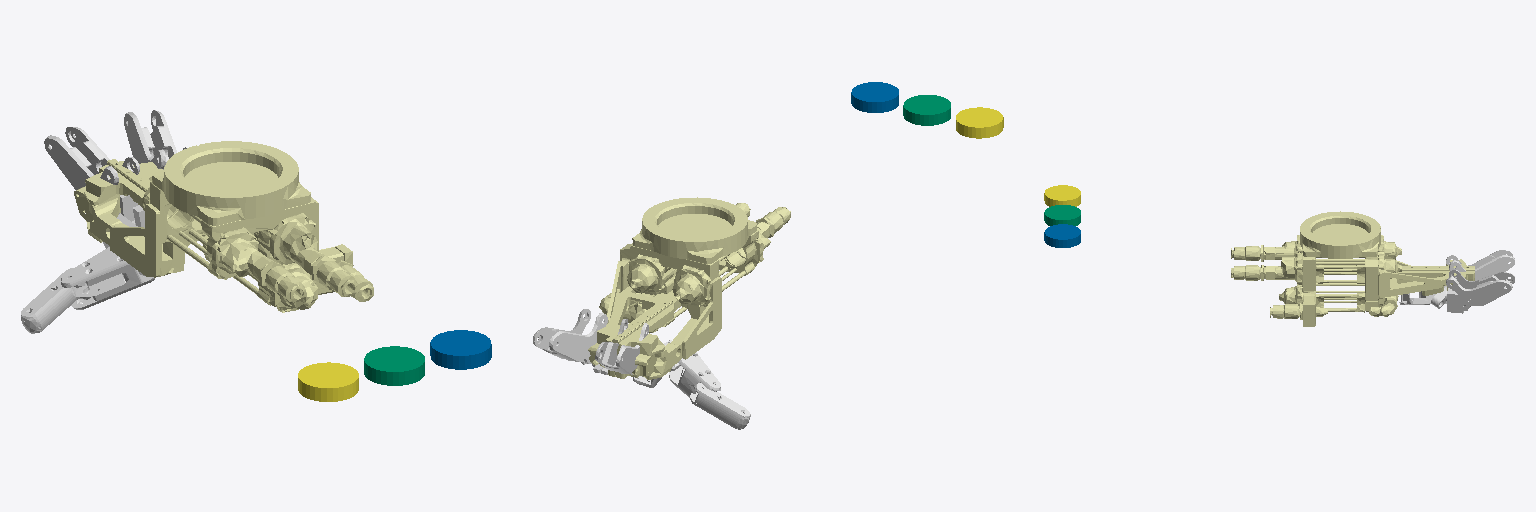
The robot description file, URDF, robot "avatar_gripper_3f_model":
<?xml version="1.0" ?>
<!-- =================================================================================== -->
<!-- |    This document was autogenerated by xacro from avatar_gripper_3f.xacro        | -->
<!-- |    EDITING THIS FILE BY HAND IS NOT RECOMMENDED                                 | -->
<!-- =================================================================================== -->
<robot name="avatar_gripper_3f_model">
  <link name="right_thumb_base">
    <inertial>
      <mass value="0.5"/>
      <inertia ixx="0.0" ixy="0.0" ixz="0.0" iyy="4E-5" iyz="0.0" izz="4E-5"/>
    </inertial>
    <visual>
      <origin rpy="0 0 0" xyz="0 0 0"/>
      <geometry>
        <mesh filename="package://avatar_description/meshes/thumb_base_extra.obj"/>
      </geometry>
      <material name="">
        <color rgba="0.9 0.9 0.9 1"/>
      </material>
    </visual>
    <collision>
      <origin rpy="0 0 0" xyz="0 0 0"/>
      <geometry>
        <mesh filename="package://avatar_description/meshes/thumb_base_extra.obj"/>
      </geometry>
    </collision>
  </link>
  <link name="right_thumb_knuckle">
    <inertial>
      <mass value="0.5"/>
      <inertia ixx="0.0" ixy="0.0" ixz="0.0" iyy="4E-5" iyz="0.0" izz="4E-5"/>
    </inertial>
    <visual>
      <origin rpy="0 0 0" xyz="0 0 0"/>
      <geometry>
        <mesh filename="package://avatar_description/meshes/thumb_knuckle.obj"/>
      </geometry>
      <material name="">
        <color rgba="0.9 0.9 0.9 1"/>
      </material>
    </visual>
    <collision>
      <origin rpy="0 0 0" xyz="0 0 0"/>
      <geometry>
        <mesh filename="package://avatar_description/meshes/thumb_knuckle.obj"/>
      </geometry>
    </collision>
  </link>
  <joint name="right_thumb_knuckle_joint" type="revolute">
    <origin rpy="0 2.75 0" xyz="0 0 0"/>
    <parent link="right_thumb_base"/>
    <child link="right_thumb_knuckle"/>
    <axis xyz="0 1 0"/>
    <limit effort="1000" lower="-1.0" upper="0.4" velocity="2.0"/>
    <mimic joint="right_thumb_flex_motor_joint" multiplier="-0.5702" offsite="0"/>
  </joint>
  <link name="right_thumb_finger">
    <inertial>
      <mass value="0.5"/>
      <inertia ixx="0.0" ixy="0.0" ixz="0.0" iyy="4E-5" iyz="0.0" izz="4E-5"/>
    </inertial>
    <visual>
      <origin rpy="0 0 0" xyz="0 0 0"/>
      <geometry>
        <mesh filename="package://avatar_description/meshes/thumb_fingertip.obj"/>
      </geometry>
      <material name="">
        <color rgba="0.9 0.9 0.9 1"/>
      </material>
    </visual>
    <collision>
      <origin rpy="0 0 0" xyz="0 0 0"/>
      <geometry>
        <mesh filename="package://avatar_description/meshes/thumb_fingertip.obj"/>
      </geometry>
    </collision>
  </link>
  <joint name="right_thumb_finger_joint" type="revolute">
    <origin rpy="0 0.57 0" xyz="0.04568 0 0.01106"/>
    <parent link="right_thumb_knuckle"/>
    <child link="right_thumb_finger"/>
    <axis xyz="0 1 0"/>
    <limit effort="1000" lower="-0.8" upper="0" velocity="2.0"/>
    <mimic joint="right_thumb_flex_motor_joint" multiplier="-0.6007" offsite="0"/>
  </joint>
  <link name="right_thumb_swivel_link">
    <visual>
      <origin rpy="0 0 0" xyz="0 0 0"/>
      <geometry>
        <mesh filename="package://avatar_description/meshes/thumb_swivel_link.obj"/>
      </geometry>
      <material name="">
        <color rgba="0.9 0.9 0.9 1"/>
      </material>
    </visual>
  </link>
  <joint name="right_thumb_swivel_joint" type="revolute">
    <origin rpy="0 0 0" xyz="0 0 0.0173"/>
    <parent link="right_index_base_connector"/>
    <child link="right_thumb_swivel_link"/>
    <axis xyz="0 0 1"/>
    <limit effort="1000" lower="0" upper="1.7" velocity="2.0"/>
    <mimic joint="right_thumb_swivel_motor_joint" multiplier="0.6075" offset="0.43"/>
  </joint>
  <joint name="right_thumb_base_swivel_joint" type="fixed">
    <origin rpy="0 0 0" xyz="-0.03742 0 0.05089"/>
    <parent link="right_thumb_swivel_link"/>
    <child link="right_thumb_base"/>
  </joint>
  <link name="right_index_base_connector">
    <visual>
      <origin rpy="0 0 0" xyz="0 0 0"/>
      <geometry>
        <mesh filename="package://avatar_description/meshes/index_base_connector.obj"/>
      </geometry>
      <material name="">
        <color rgba="0.9 0.9 0.9 1"/>
      </material>
    </visual>
  </link>
  <link name="right_index_knuckle">
    <inertial>
      <mass value="0.5"/>
      <inertia ixx="0.0" ixy="0.0" ixz="0.0" iyy="4E-5" iyz="0.0" izz="4E-5"/>
    </inertial>
    <visual>
      <origin rpy="0 0 0" xyz="0 0 0"/>
      <geometry>
        <mesh filename="package://avatar_description/meshes/index_knuckle.obj"/>
      </geometry>
      <material name="">
        <color rgba="0.9 0.9 0.9 1"/>
      </material>
    </visual>
    <collision>
      <origin rpy="0 0 0" xyz="0 0 0"/>
      <geometry>
        <mesh filename="package://avatar_description/meshes/index_knuckle.obj"/>
      </geometry>
    </collision>
  </link>
  <joint name="right_index_knuckle_joint" type="revolute">
    <origin rpy="1.94428593 1.07478656 1.98996937" xyz="-0.021564878 0.008545 -0.0024358"/>
    <parent link="right_index_base_connector"/>
    <child link="right_index_knuckle"/>
    <axis xyz="0 0 1"/>
    <limit effort="1000" lower="-0.8" upper="0" velocity="2.0"/>
    <mimic joint="right_index_flex_motor_joint" multiplier="-1" offsite="0"/>
  </joint>
  <link name="right_index_fingertip">
    <inertial>
      <mass value="0.5"/>
      <inertia ixx="0.0" ixy="0.0" ixz="0.0" iyy="4E-5" iyz="0.0" izz="4E-5"/>
    </inertial>
    <visual>
      <origin rpy="0 0 0" xyz="0 0 0"/>
      <geometry>
        <mesh filename="package://avatar_description/meshes/index_fingertip.obj"/>
      </geometry>
      <material name="">
        <color rgba="0.9 0.9 0.9 1"/>
      </material>
    </visual>
    <collision>
      <origin rpy="0 0 0" xyz="0 0 0"/>
      <geometry>
        <mesh filename="package://avatar_description/meshes/index_fingertip.obj"/>
      </geometry>
    </collision>
  </link>
  <joint name="right_index_fingertip_joint" type="revolute">
    <origin rpy="0 0 -0.35" xyz="0.0353829 -0.02780 0"/>
    <parent link="right_index_knuckle"/>
    <child link="right_index_fingertip"/>
    <axis xyz="0 0 1"/>
    <limit effort="1000" lower="-0.8" upper="0" velocity="2.0"/>
    <mimic joint="right_index_flex_motor_joint" multiplier="-0.40" offsite="0"/>
  </joint>
  <link name="right_middle_knuckle">
    <inertial>
      <mass value="0.5"/>
      <inertia ixx="0.0" ixy="0.0" ixz="0.0" iyy="4E-5" iyz="0.0" izz="4E-5"/>
    </inertial>
    <visual>
      <origin rpy="0 0 0" xyz="0 0 0"/>
      <geometry>
        <mesh filename="package://avatar_description/meshes/index_knuckle.obj"/>
      </geometry>
      <material name="">
        <color rgba="0.9 0.9 0.9 1"/>
      </material>
    </visual>
    <collision>
      <origin rpy="0 0 0" xyz="0 0 0"/>
      <geometry>
        <mesh filename="package://avatar_description/meshes/index_knuckle.obj"/>
      </geometry>
    </collision>
  </link>
  <joint name="right_middle_knuckle_joint" type="revolute">
    <origin rpy="1.19730672 1.07478656 1.15162329" xyz="0.02156 0.008545 -0.0024358"/>
    <parent link="right_index_base_connector"/>
    <child link="right_middle_knuckle"/>
    <axis xyz="0 0 1"/>
    <limit effort="1000" lower="-0.8" upper="0" velocity="2.0"/>
    <mimic joint="right_index_knuckle_joint" multiplier="1" offset="0"/>
  </joint>
  <link name="right_middle_fingertip">
    <inertial>
      <mass value="0.5"/>
      <inertia ixx="0.0" ixy="0.0" ixz="0.0" iyy="4E-5" iyz="0.0" izz="4E-5"/>
    </inertial>
    <visual>
      <origin rpy="0 0 0" xyz="0 0 0"/>
      <geometry>
        <mesh filename="package://avatar_description/meshes/index_fingertip.obj"/>
      </geometry>
      <material name="">
        <color rgba="0.9 0.9 0.9 1"/>
      </material>
    </visual>
    <collision>
      <origin rpy="0 0 0" xyz="0 0 0"/>
      <geometry>
        <mesh filename="package://avatar_description/meshes/index_fingertip.obj"/>
      </geometry>
    </collision>
  </link>
  <joint name="right_middle_fingertip_joint" type="revolute">
    <origin rpy="0 0 -0.35" xyz="0.0353829 -0.02780 0"/>
    <parent link="right_middle_knuckle"/>
    <child link="right_middle_fingertip"/>
    <axis xyz="0 0 1"/>
    <limit effort="1000" lower="-0.8" upper="0" velocity="2.0"/>
    <mimic joint="right_index_fingertip_joint" multiplier="1" offset="0"/>
  </joint>
  <link name="right_gripper_base">
    <inertial>
      <mass value="2.0"/>
      <inertia ixx="7.11E-3" ixy="0.0" ixz="0.0" iyy="7.11E-3" iyz="0.0" izz="7.11E-3"/>
    </inertial>
    <visual>
      <origin rpy="0 0 0" xyz="0 0 0"/>
      <geometry>
        <mesh filename="package://avatar_description/meshes/gripper_base.obj"/>
      </geometry>
      <material name="">
        <color rgba="0.9 0.9 0.7 1"/>
      </material>
    </visual>
  </link>
  <joint name="right_gripper_base_joint" type="fixed">
    <origin rpy="1.57 0 0" xyz="0.00736 0.139 -0.066017"/>
    <parent link="right_gripper_base"/>
    <child link="right_index_base_connector"/>
  </joint>
  <link name="right_thumb_flex_motor">
    <inertial>
      <mass value="0.25"/>
      <inertia ixx="1.463E-04" ixy="0" ixz="0" iyy="1.463E-04" iyz="0" izz="1.463E-04"/>
    </inertial>
    <visual>
      <origin rpy="0 0 0" xyz="0 0 0"/>
      <geometry>
        <cylinder length="0.01" radius="0.02"/>
      </geometry>
    </visual>
  </link>
  <joint name="right_thumb_flex_motor_joint" type="revolute">
    <origin rpy="0 0 0" xyz="-0.05 -0.3 0"/>
    <parent link="right_gripper_base"/>
    <child link="right_thumb_flex_motor"/>
    <axis xyz="0 0 1"/>
    <limit effort="1000" lower="0" upper="1.0" velocity="2.0"/>
  </joint>
  <link name="right_thumb_swivel_motor">
    <inertial>
      <mass value="0.25"/>
      <inertia ixx="1.463E-04" ixy="0" ixz="0" iyy="1.463E-04" iyz="0" izz="1.463E-04"/>
    </inertial>
    <visual>
      <origin rpy="0 0 0" xyz="0 0 0"/>
      <geometry>
        <cylinder length="0.01" radius="0.02"/>
      </geometry>
    </visual>
  </link>
  <joint name="right_thumb_swivel_motor_joint" type="revolute">
    <origin rpy="0 0 0" xyz="-0.1 -0.3 0"/>
    <parent link="right_gripper_base"/>
    <child link="right_thumb_swivel_motor"/>
    <axis xyz="0 0 1"/>
    <limit effort="1000" lower="0" upper="2.0" velocity="2.0"/>
  </joint>
  <link name="right_index_flex_motor">
    <inertial>
      <mass value="0.25"/>
      <inertia ixx="1.463E-04" ixy="0" ixz="0" iyy="1.463E-04" iyz="0" izz="1.463E-04"/>
    </inertial>
    <visual>
      <origin rpy="0 0 0" xyz="0 0 0"/>
      <geometry>
        <cylinder length="0.01" radius="0.02"/>
      </geometry>
    </visual>
  </link>
  <joint name="right_index_flex_motor_joint" type="revolute">
    <origin rpy="0 0 0" xyz="0 -0.3 0"/>
    <parent link="right_gripper_base"/>
    <child link="right_index_flex_motor"/>
    <axis xyz="0 0 1"/>
    <limit effort="1000" lower="0" upper="1.0" velocity="2.0"/>
  </joint>
</robot>

--- Facts derived from the render (not from the file) ---
3 views of the same robot in one strip: view 1: azimuth 30°, elevation 25°; view 2: azimuth 150°, elevation 25°; view 3: azimuth 270°, elevation 25° (orthographic).
Robot: avatar_gripper_3f_model — 13 links, 12 joints (10 revolute, 2 fixed); root link right_gripper_base; default pose: all joints at 0.
Visible links, largest first — view 1: right_gripper_base, right_thumb_knuckle, right_index_knuckle, right_index_flex_motor, right_thumb_flex_motor, right_thumb_swivel_motor, right_middle_knuckle, right_thumb_finger; view 2: right_gripper_base, right_middle_knuckle, right_thumb_finger, right_index_flex_motor, right_thumb_flex_motor, right_thumb_swivel_motor, right_index_knuckle, right_thumb_knuckle; view 3: right_gripper_base, right_middle_knuckle, right_index_knuckle, right_index_flex_motor, right_thumb_swivel_motor, right_thumb_flex_motor.
Boxes of the visible links, x1=… form: right_gripper_base: x1=74, y1=141, x2=373, y2=312; right_thumb_knuckle: x1=61, y1=247, x2=154, y2=309; right_index_knuckle: x1=44, y1=127, x2=139, y2=189; right_index_flex_motor: x1=430, y1=330, x2=491, y2=369; right_thumb_flex_motor: x1=364, y1=346, x2=424, y2=385; right_thumb_swivel_motor: x1=298, y1=362, x2=358, y2=401; right_middle_knuckle: x1=124, y1=110, x2=186, y2=169; right_thumb_finger: x1=21, y1=268, x2=96, y2=333; right_gripper_base: x1=588, y1=197, x2=790, y2=379; right_middle_knuckle: x1=533, y1=309, x2=607, y2=361; right_thumb_finger: x1=690, y1=383, x2=750, y2=429; right_index_flex_motor: x1=851, y1=82, x2=898, y2=112; right_thumb_flex_motor: x1=903, y1=95, x2=950, y2=125; right_thumb_swivel_motor: x1=956, y1=107, x2=1003, y2=138; right_index_knuckle: x1=595, y1=319, x2=648, y2=373; right_thumb_knuckle: x1=669, y1=352, x2=720, y2=397; right_gripper_base: x1=1231, y1=211, x2=1474, y2=326; right_middle_knuckle: x1=1446, y1=270, x2=1514, y2=305; right_index_knuckle: x1=1446, y1=250, x2=1514, y2=280; right_index_flex_motor: x1=1044, y1=224, x2=1080, y2=247; right_thumb_swivel_motor: x1=1044, y1=185, x2=1080, y2=206; right_thumb_flex_motor: x1=1044, y1=205, x2=1080, y2=225.
Size in the robot's own frame: 0.1882 by 0.5092 by 0.1319 metres.
8 mesh visuals loaded from 8 distinct referenced files (7 OBJ); not drawn: 2 (reference not matched to a file when rendering).